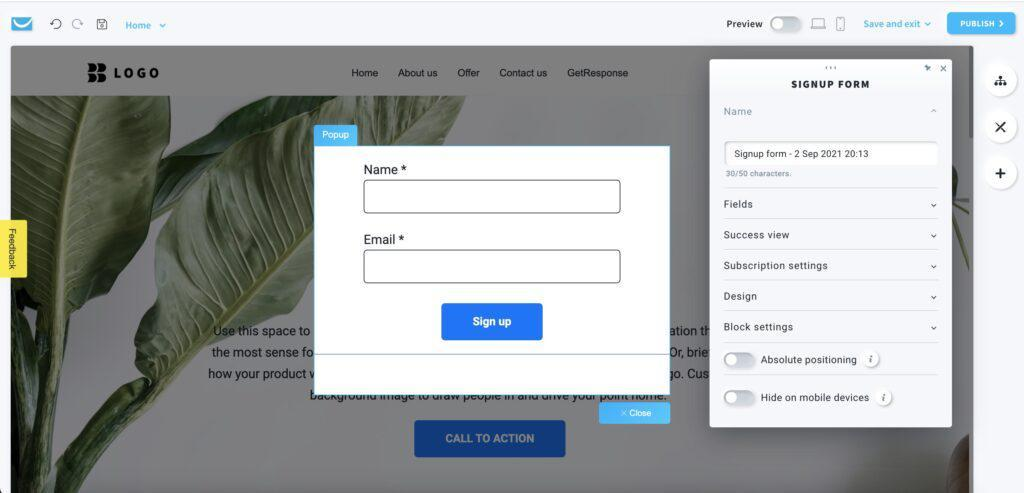button: (414, 421, 568, 460), (442, 305, 544, 342), (601, 402, 670, 427), (949, 12, 1017, 37), (316, 126, 358, 146), (990, 116, 1012, 139), (992, 165, 1012, 183)
icon: (10, 16, 37, 36), (44, 13, 67, 35), (990, 70, 1011, 92), (811, 14, 828, 39), (833, 13, 849, 38), (70, 14, 89, 35), (95, 17, 115, 35), (925, 65, 935, 74), (940, 64, 949, 74), (931, 325, 940, 333), (932, 294, 939, 304), (931, 202, 939, 210), (931, 108, 940, 115), (931, 232, 938, 241), (931, 264, 939, 271)
input: (365, 250, 622, 284), (366, 181, 622, 215), (727, 142, 942, 166)
label: (779, 78, 882, 94), (760, 355, 859, 370), (762, 393, 872, 405), (862, 18, 935, 32), (723, 15, 767, 37), (722, 105, 760, 122), (365, 233, 398, 246), (123, 20, 155, 33), (364, 165, 399, 176)
switch: (767, 12, 809, 39), (724, 353, 758, 371), (723, 390, 757, 408)
